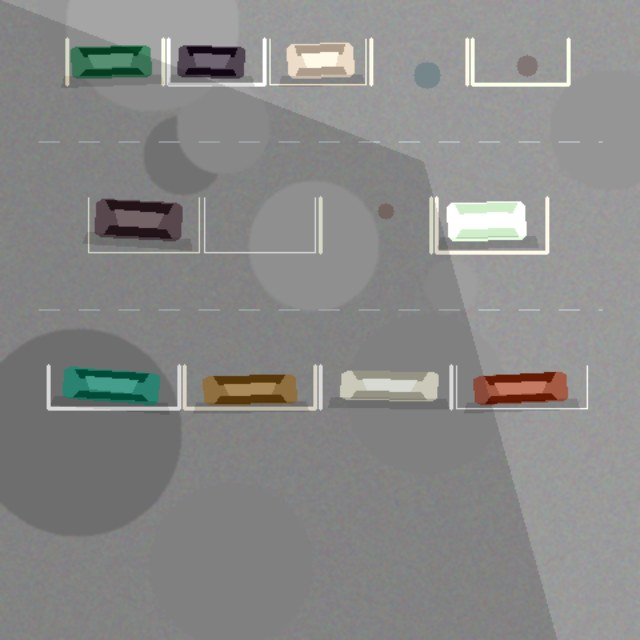space-empty: (204, 197, 315, 252), (320, 197, 431, 252), (371, 39, 467, 84), (472, 39, 568, 84)
space-occupied: (88, 197, 199, 252), (436, 197, 547, 252), (48, 365, 179, 408), (184, 365, 315, 408), (320, 365, 451, 408), (456, 365, 587, 408), (67, 39, 163, 84), (168, 39, 264, 84), (269, 39, 365, 84)
